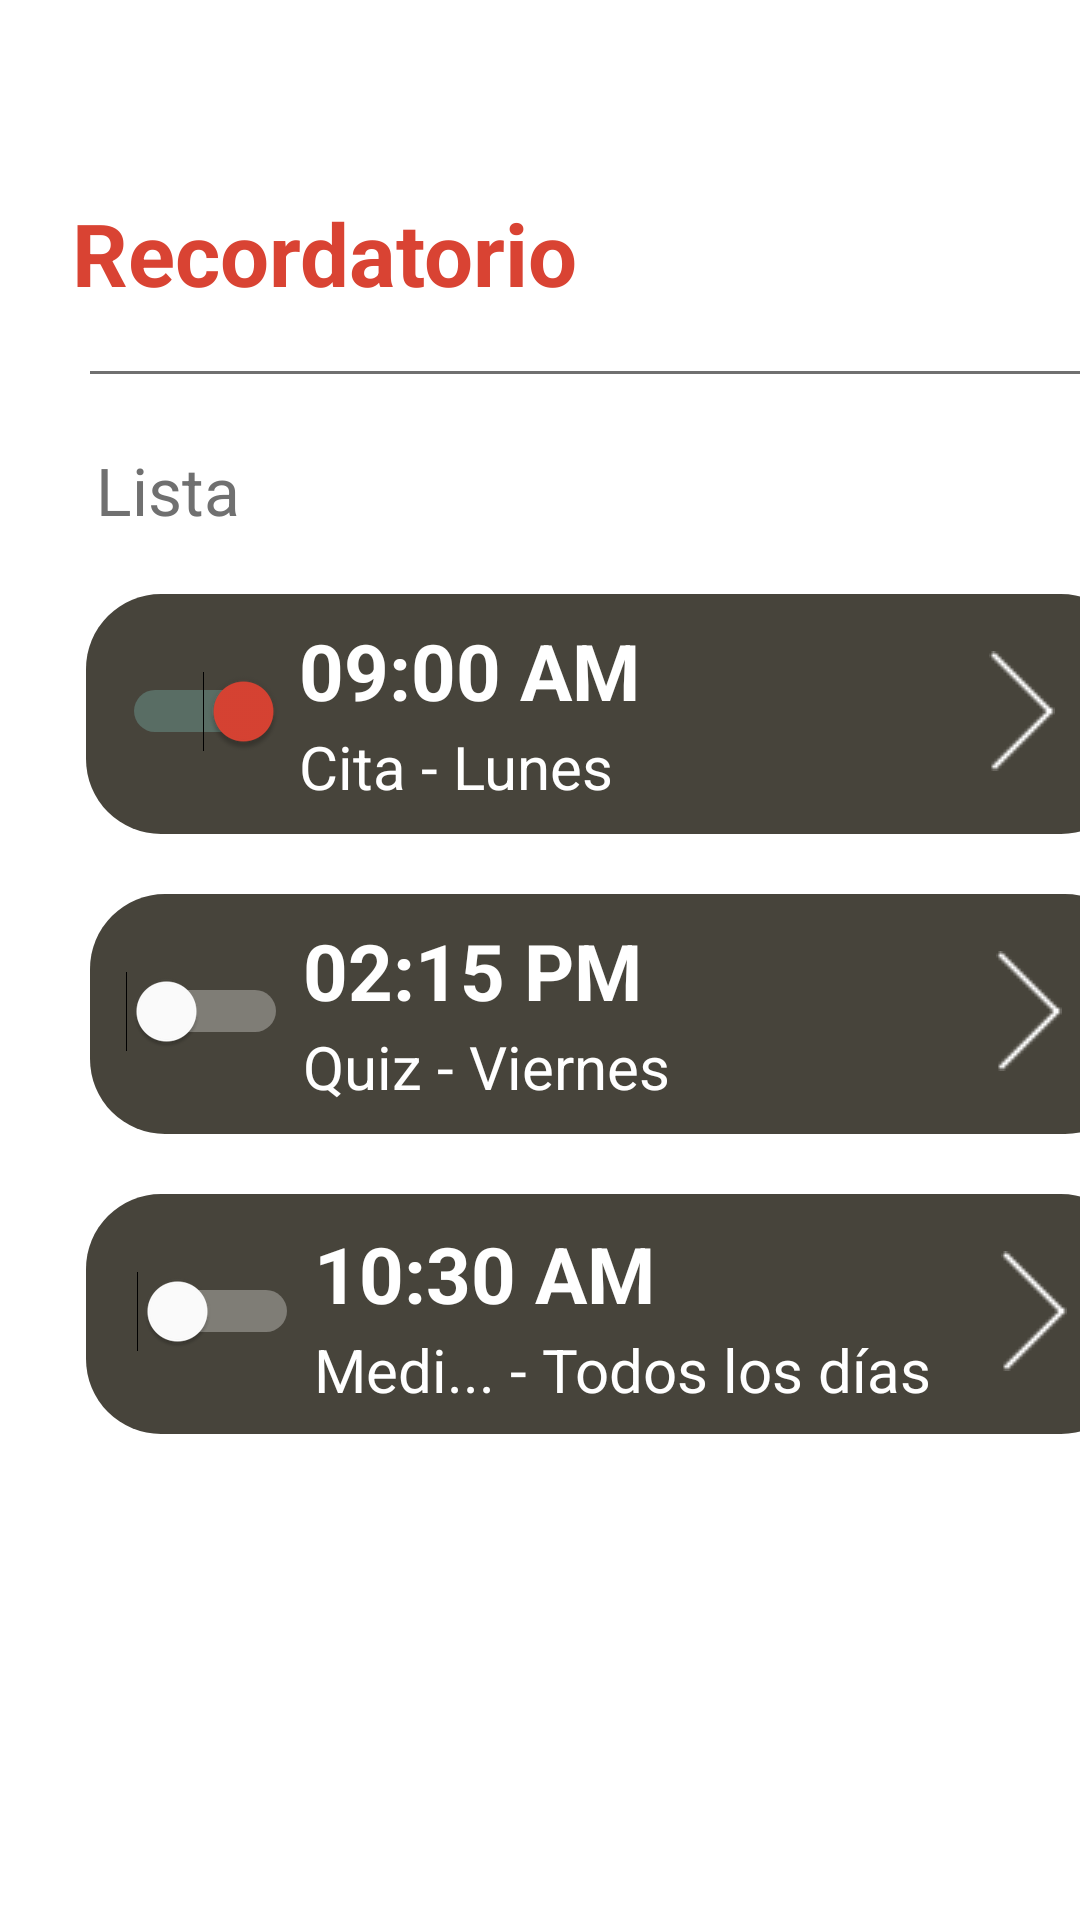

Where to tap for icons on this 1080x1920 app screen, as (x,y):
adelante: (1022,711), (1029,1011), (1034,1311)
